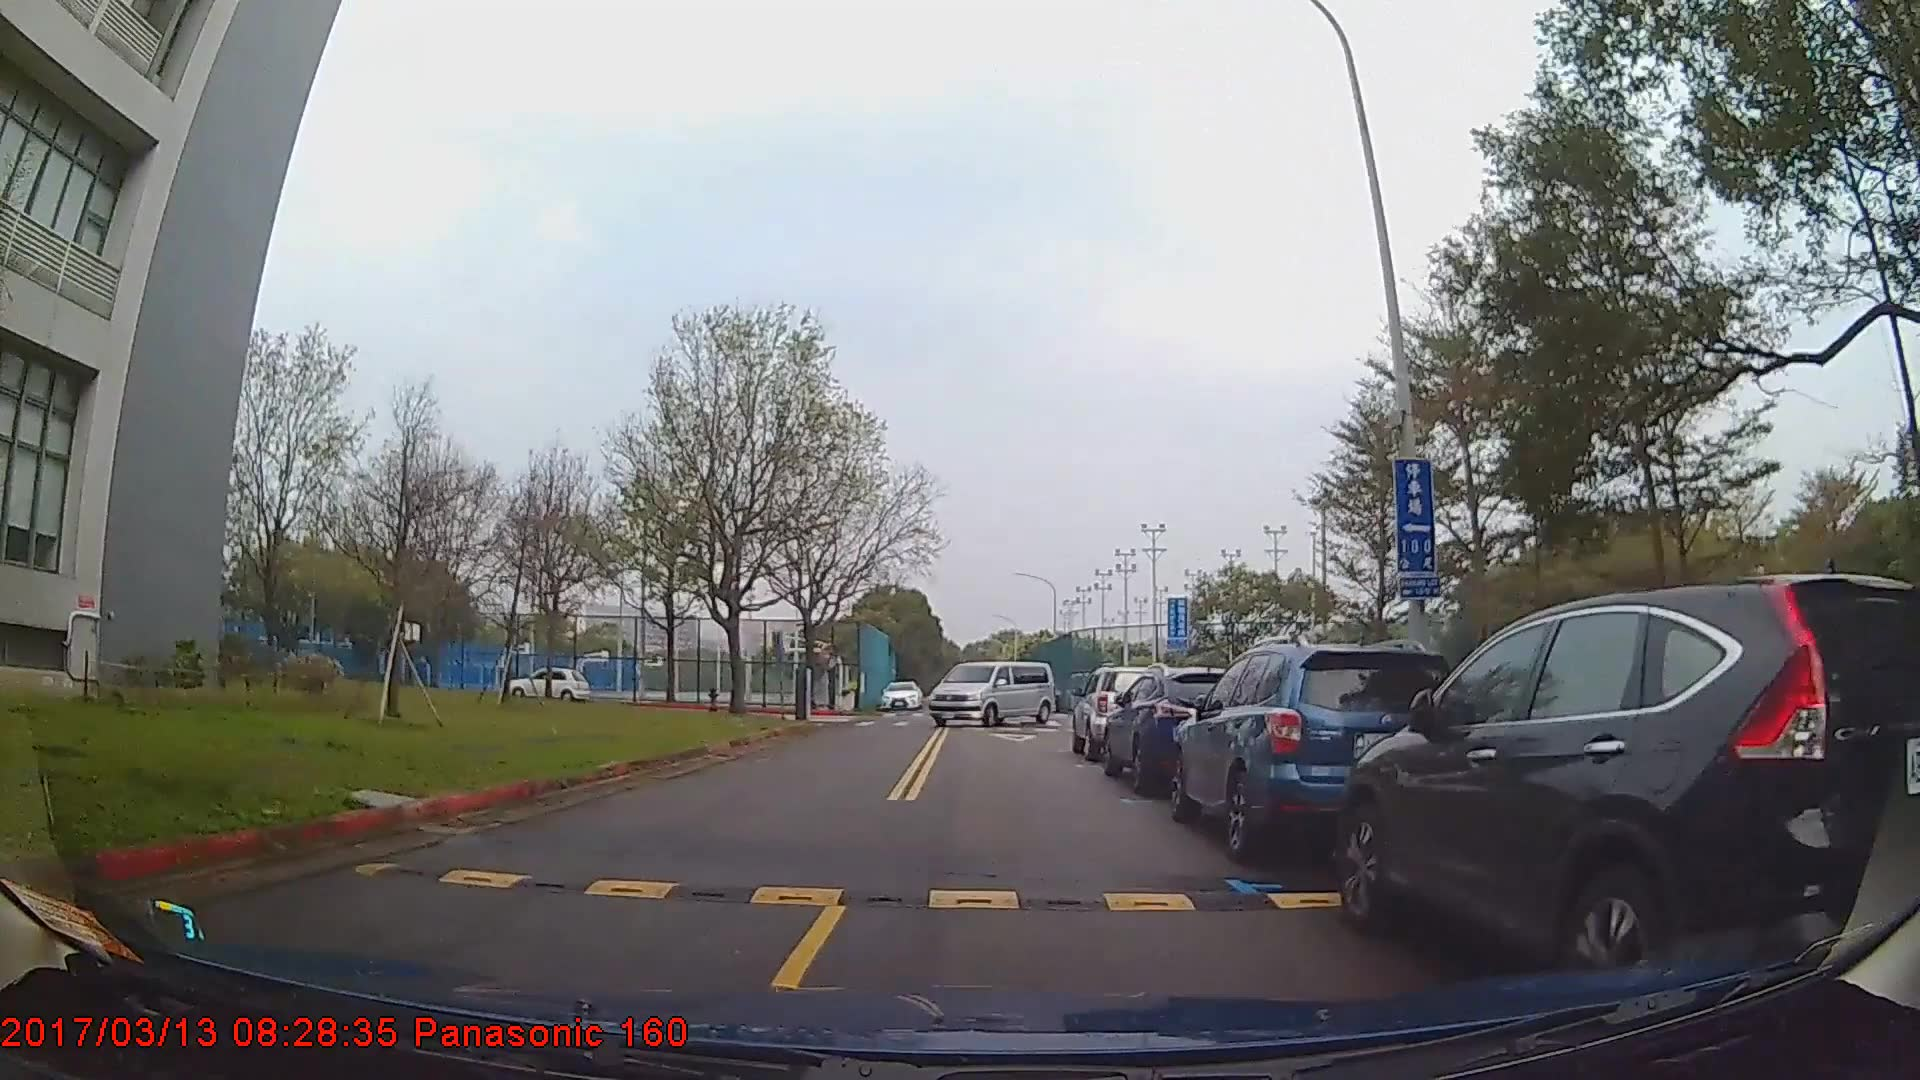vehicle: (1335, 568, 1920, 1004), (1166, 642, 1458, 853), (1101, 662, 1251, 791), (926, 657, 1056, 727), (1071, 663, 1164, 760), (509, 663, 589, 704), (878, 679, 920, 709)
